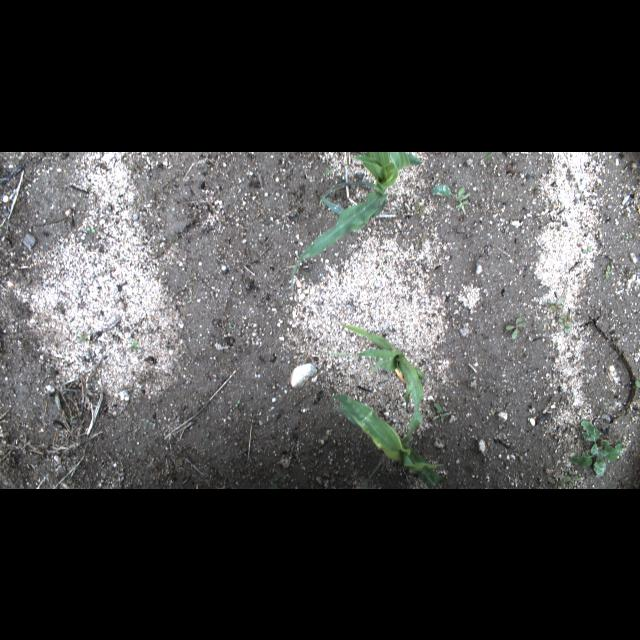crop: (294, 154, 426, 286), (324, 320, 431, 476), (330, 394, 446, 484)
weed: (562, 418, 626, 474), (428, 181, 478, 221), (542, 293, 568, 335), (499, 315, 528, 341), (432, 394, 450, 422)
